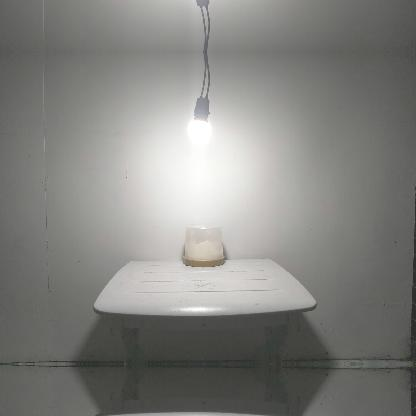Lady-s-Choice: (182, 222, 224, 266)
